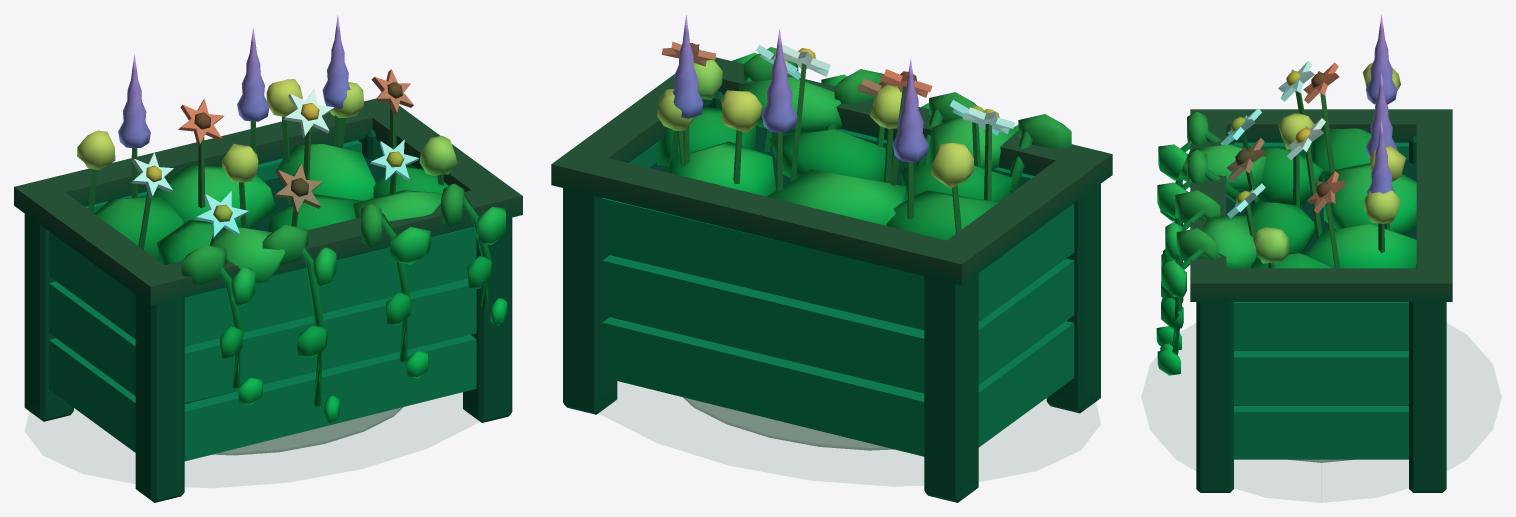
Rendered from flower_planter.glb.
3 renders of one model, left to right at view 1: azimuth 30°, elevation 25°; view 2: azimuth 150°, elevation 25°; view 3: azimuth 270°, elevation 25°, orthographic. The views are drawn at different scales.
Parts seen in each view (by area): view 1: flower_planter; view 2: flower_planter; view 3: flower_planter.
Boxes of the visible parts, <box> form: flower_planter: <box>14,15,522,502</box>; flower_planter: <box>551,15,1112,502</box>; flower_planter: <box>1156,15,1452,502</box>.
Bounding box in the file's own units: 1 × 0.766 × 0.72.
